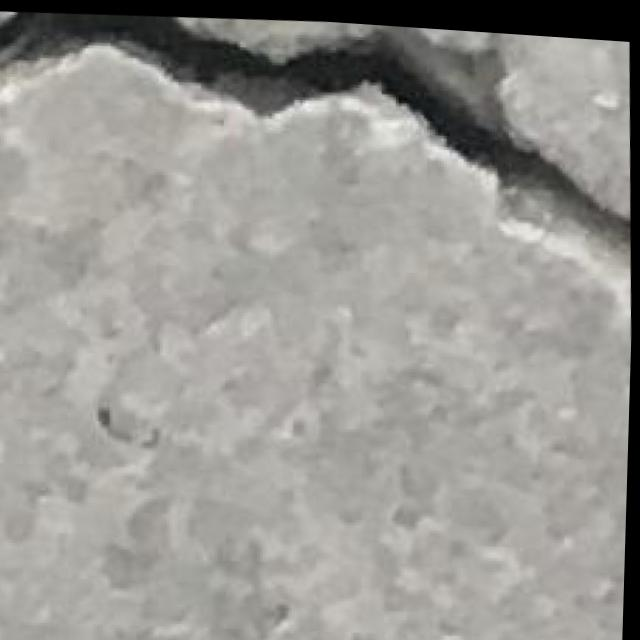Crack: (0, 0, 629, 298)
